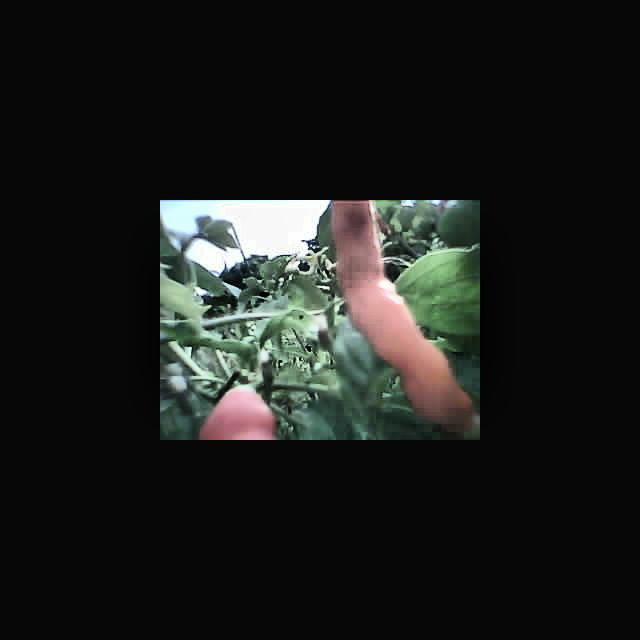Cabai: (329, 200, 478, 420), (190, 382, 281, 440)
